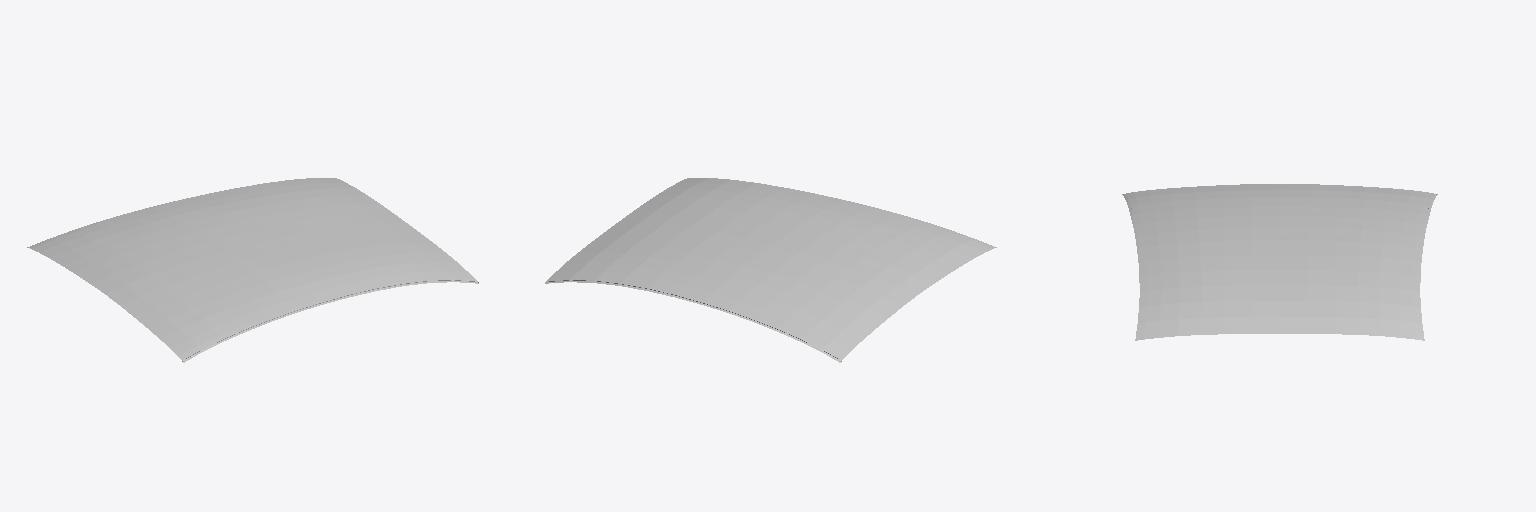
The picture shows the model from 3 angles: view 1: azimuth 30°, elevation 25°; view 2: azimuth 150°, elevation 25°; view 3: azimuth 270°, elevation 25°; orthographic projection.
Visible parts, largest first — view 1: X8163_341B_C_1_DaS_X8163_341B_C, X8163_341B_C_X8163_341B_C_2_D; view 2: X8163_341B_C_1_DaS_X8163_341B_C, X8163_341B_C_X8163_341B_C_2_D; view 3: X8163_341B_C_1_DaS_X8163_341B_C, X8163_341B_C_X8163_341B_C_2_D.
Boxes of the visible parts, box(x1,y1,x2,y2) form: X8163_341B_C_1_DaS_X8163_341B_C: box(28, 178, 477, 359); X8163_341B_C_X8163_341B_C_2_D: box(27, 178, 478, 362); X8163_341B_C_1_DaS_X8163_341B_C: box(546, 178, 995, 359); X8163_341B_C_X8163_341B_C_2_D: box(545, 178, 996, 362); X8163_341B_C_1_DaS_X8163_341B_C: box(1126, 184, 1433, 339); X8163_341B_C_X8163_341B_C_2_D: box(1122, 194, 1437, 340).
Bounding box in the file's own units: 150 × 11.98 × 135.